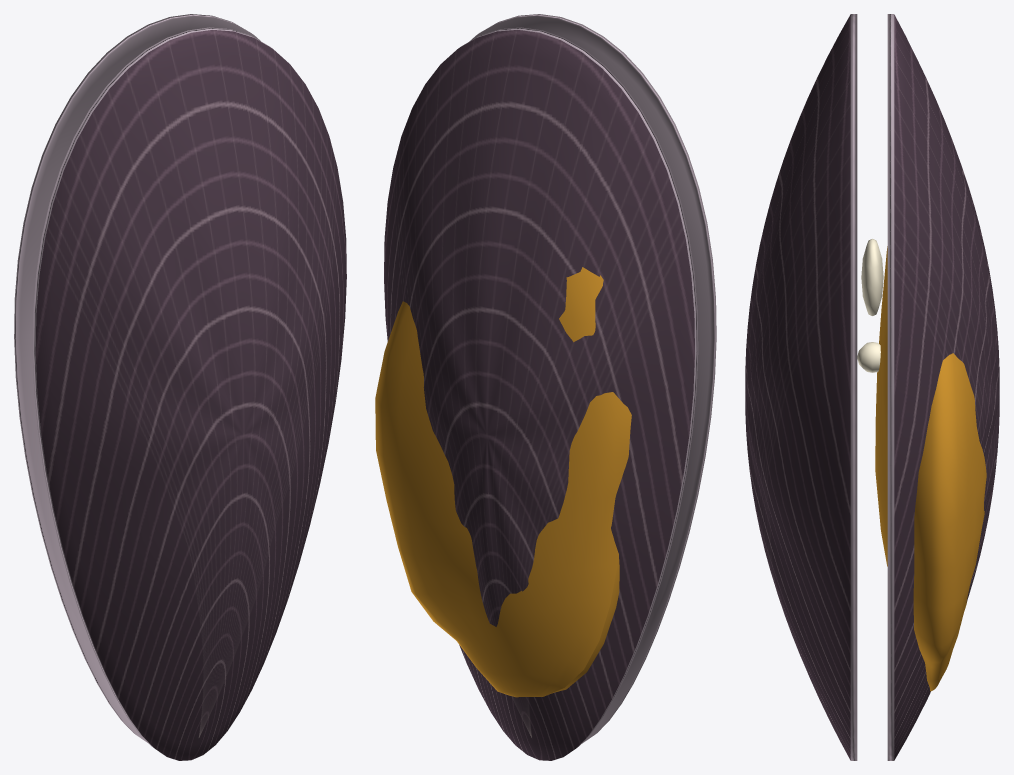
Rendered from props_p3_beach__p3_mussel_shell.glb.
The picture shows the model from 3 angles, left to right: view 1: azimuth 30°, elevation 25°; view 2: azimuth 150°, elevation 25°; view 3: azimuth 270°, elevation 25°; orthographic projection.
Visible parts, largest first — view 1: mussel_valve_front, mussel_valve_back; view 2: mussel_valve_back, mussel_meat_body, mussel_valve_front; view 3: mussel_valve_front, mussel_valve_back, mussel_meat_body, mussel_meat_glint, mussel_meat_glint2.
Part boxes in pixels (x1,y1,x2,y2): mussel_valve_front: (32,27,346,760); mussel_valve_back: (14,14,260,743); mussel_valve_back: (384,27,698,760); mussel_meat_body: (375,267,631,697); mussel_valve_front: (469,14,716,743); mussel_valve_front: (745,14,857,760); mussel_valve_back: (887,14,999,760); mussel_meat_body: (875,246,986,691); mussel_meat_glint: (861,239,883,315); mussel_meat_glint2: (857,342,880,372).
Bounding box in the file's own units: 0.0582 × 0.13 × 0.041.
7 materials, 2 textured.
